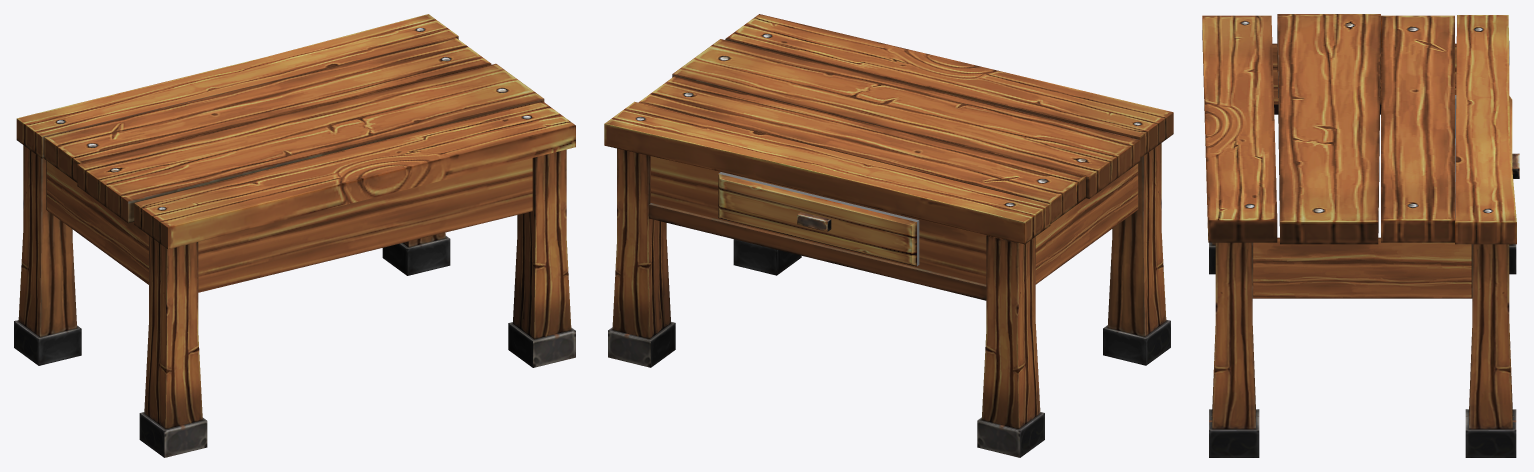
Rendered from table_00.fbx.
3 views of the same model, side by side, from view 1: azimuth 30°, elevation 25°; view 2: azimuth 150°, elevation 25°; view 3: azimuth 270°, elevation 25° (orthographic). The views are drawn at different scales.
Visible parts, largest first — view 1: table1:polySurface12; view 2: table1:polySurface12; view 3: table1:polySurface12.
Part boxes in pixels (x1,y1,x2,y2): table1:polySurface12: (14, 14, 575, 457); table1:polySurface12: (604, 14, 1173, 457); table1:polySurface12: (1202, 14, 1519, 457).
Size of the model in its own units: 126 by 67.2 by 81.35.
